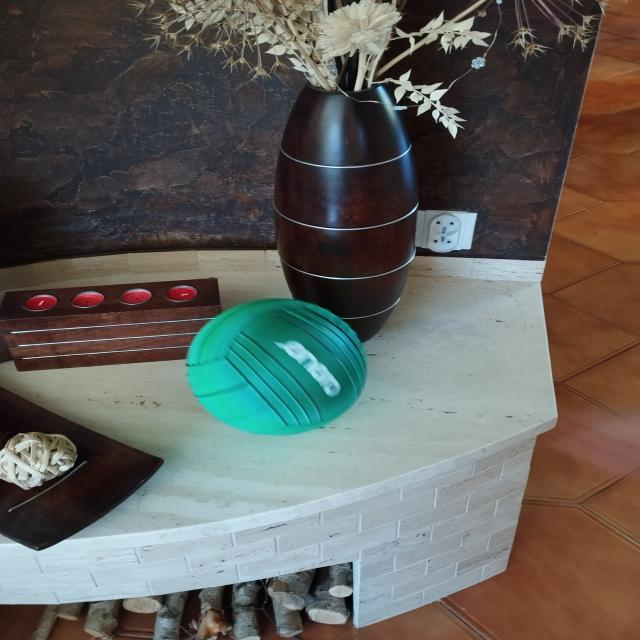zielona: (186, 298, 369, 435)
